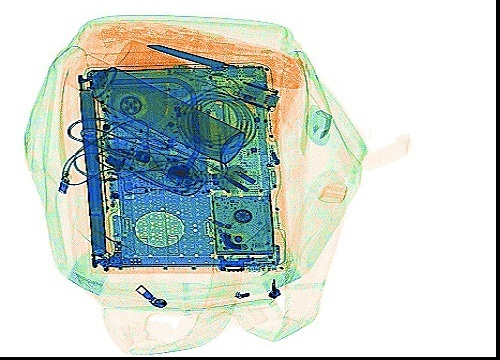knife: (144, 41, 300, 89)
pressure: (62, 51, 246, 165)
